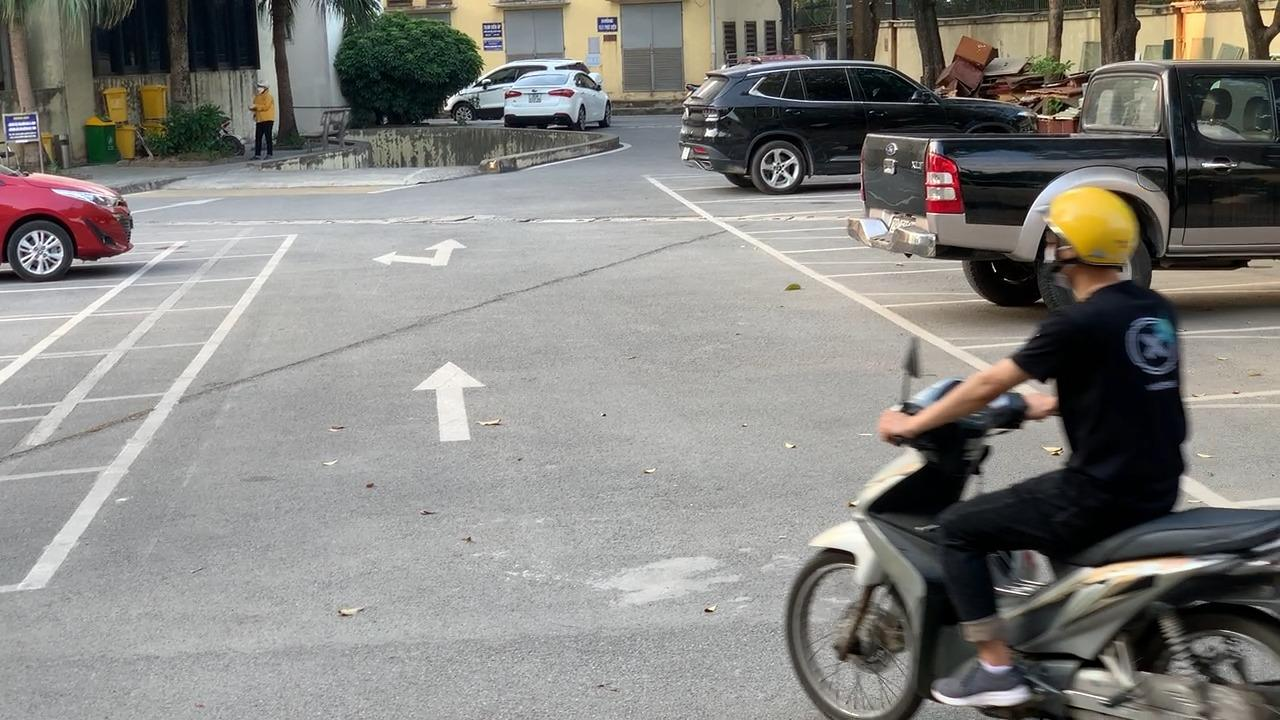helmet: (1034, 188, 1144, 269)
motorcyclist: (778, 185, 1279, 720)
